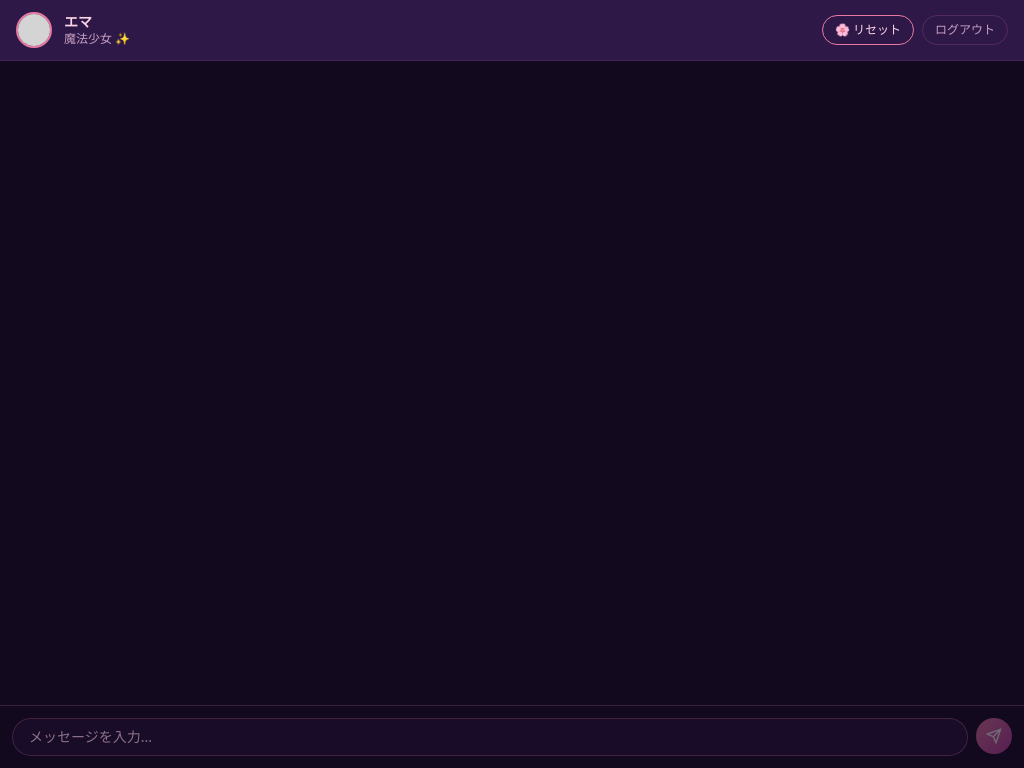
Test case: ChatPage › sends a message and displays streaming response
Type "テスト" into the field with placeholder "メッセージを入力..." at (490, 737), box [12,718,968,756]
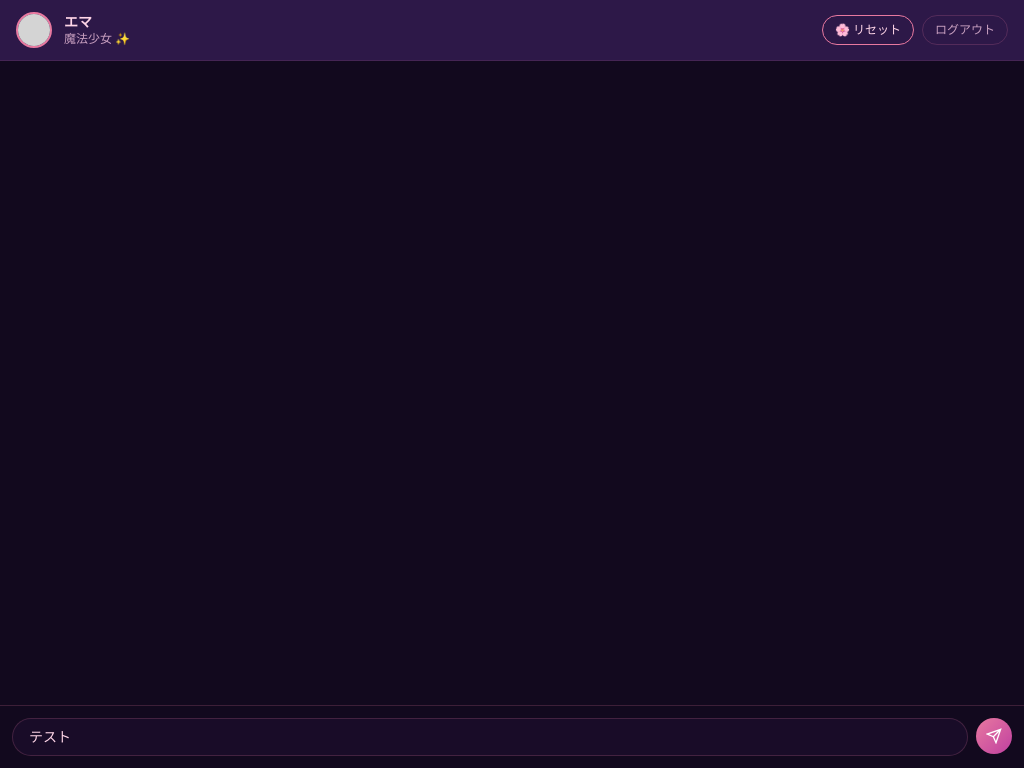
Submit the form with placeholder "メッセージを入力...", box [0,705,1023,767]
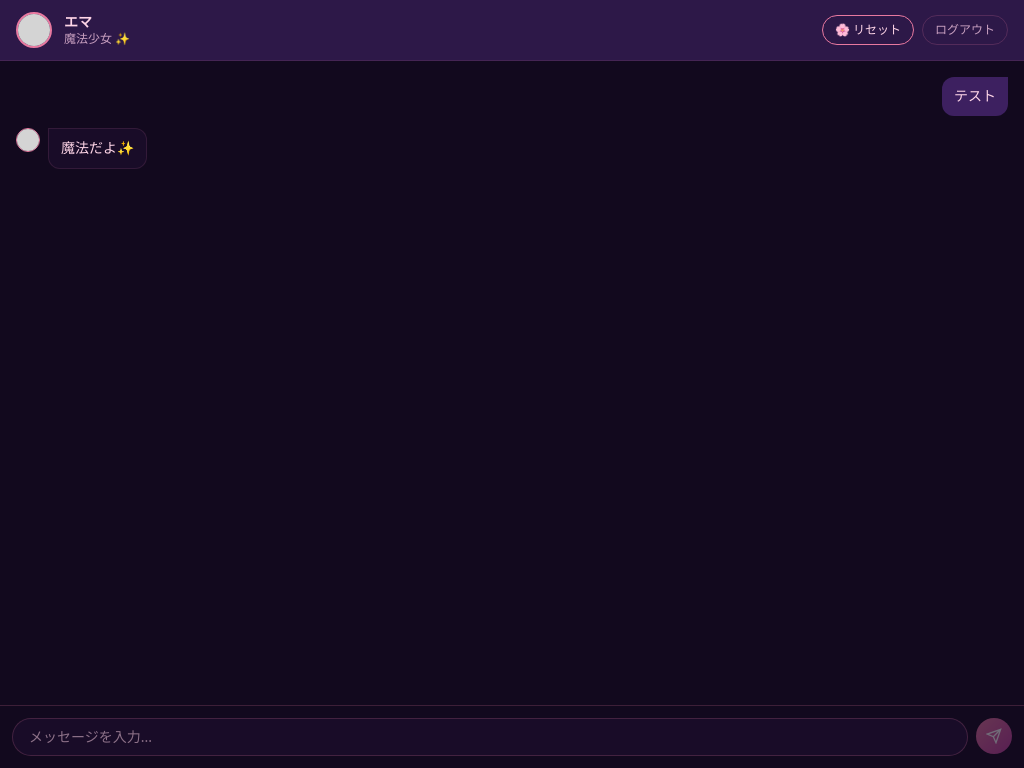
Result: the text "テスト" is shown at [942,77,1008,116]
Result: the text "魔法だよ✨" is shown at [48,128,148,169]
